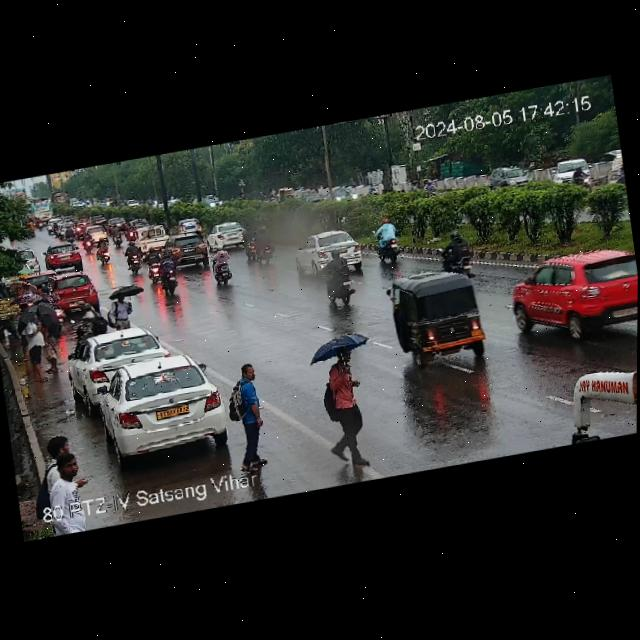bus: (27, 196, 55, 226)
car: (83, 347, 232, 469), (506, 246, 638, 351), (392, 269, 491, 364), (67, 324, 164, 394), (295, 227, 368, 276), (50, 270, 99, 312), (161, 230, 215, 268), (551, 155, 596, 193), (208, 220, 252, 250), (489, 162, 533, 192), (43, 240, 85, 271), (133, 224, 168, 252), (17, 245, 43, 278), (173, 216, 206, 236), (329, 187, 359, 205), (297, 185, 324, 205), (105, 215, 131, 228), (278, 185, 296, 203), (89, 213, 108, 227), (69, 195, 85, 210)
motorcycle: (371, 217, 409, 267), (438, 235, 484, 276), (321, 264, 361, 308), (550, 423, 615, 449), (243, 224, 278, 268), (142, 248, 178, 285), (43, 214, 84, 242), (206, 248, 236, 286), (123, 238, 151, 271), (569, 163, 595, 192), (91, 240, 113, 267), (111, 223, 125, 248), (81, 229, 96, 252), (423, 178, 440, 196), (124, 224, 136, 243), (368, 180, 379, 194), (34, 216, 44, 231)
person: (309, 331, 386, 476), (221, 356, 274, 477), (33, 430, 85, 506), (18, 303, 53, 385), (45, 454, 95, 509), (105, 291, 135, 333)
truck: (50, 188, 71, 209)
